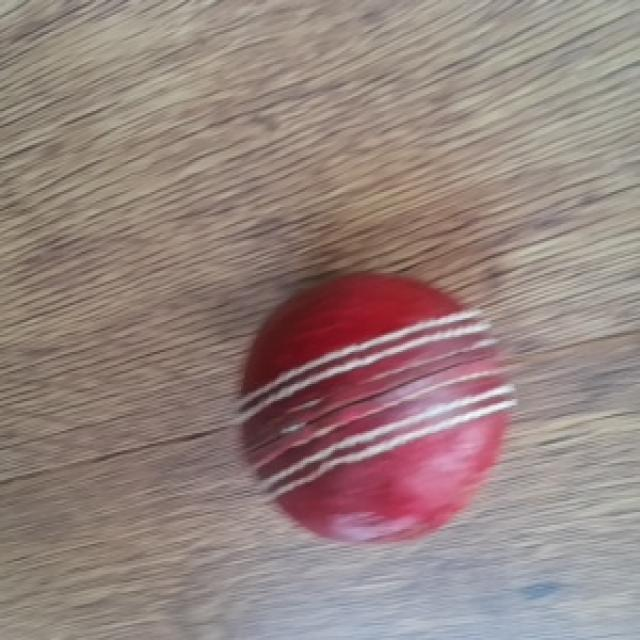ball: (244, 270, 503, 551)
